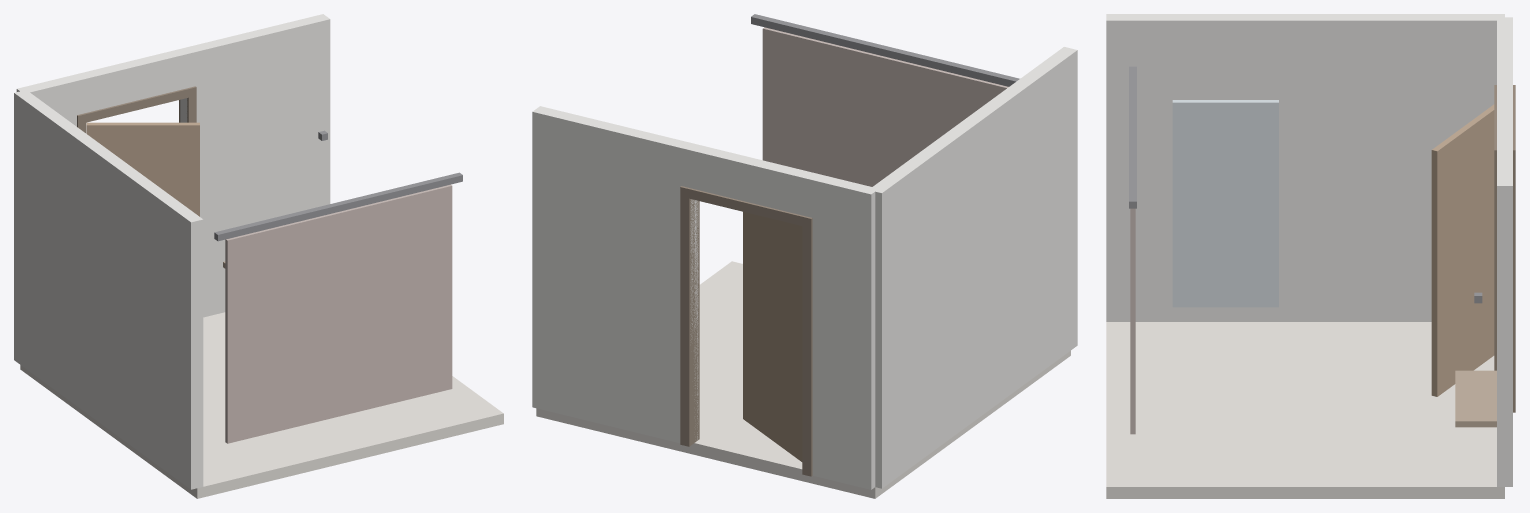
The model's file is scene-fitting.glb.
The picture shows the model from 3 angles, left to right: view 1: azimuth 30°, elevation 25°; view 2: azimuth 150°, elevation 25°; view 3: azimuth 270°, elevation 25°; orthographic projection. The views are drawn at different scales.
Visible parts, largest first — view 1: wall_left, curtain, wall_back_r, floor, door_back, wall_back_lintel, curtain_rail, wall_back_l, frame_back_top; view 2: wall_left, wall_back_r, curtain, wall_back_l, floor, door_back, wall_back_lintel, frame_back_r, curtain_rail, frame_back_l, frame_back_top; view 3: wall_left, floor, mirror, door_back, wall_back_r, bench, frame_back_r, curtain, curtain_rail, wall_back_lintel, wall_back_l, frame_back_top.
Part boxes in pixels (bbox=[...]): wall_left: bbox=[14, 91, 203, 489]; curtain: bbox=[225, 184, 452, 443]; wall_back_r: bbox=[180, 14, 330, 317]; floor: bbox=[20, 312, 503, 498]; door_back: bbox=[86, 122, 199, 216]; wall_back_lintel: bbox=[78, 49, 187, 112]; curtain_rail: bbox=[214, 172, 462, 241]; wall_back_l: bbox=[16, 74, 84, 126]; frame_back_top: bbox=[77, 86, 196, 124]; wall_left: bbox=[869, 47, 1077, 488]; wall_back_r: bbox=[532, 106, 698, 443]; curtain: bbox=[762, 27, 1008, 186]; wall_back_l: bbox=[803, 172, 878, 489]; floor: bbox=[536, 261, 1070, 498]; door_back: bbox=[743, 212, 802, 461]; wall_back_lintel: bbox=[690, 144, 810, 215]; frame_back_r: bbox=[680, 196, 699, 446]; curtain_rail: bbox=[751, 14, 1019, 86]; frame_back_l: bbox=[802, 226, 812, 476]; frame_back_top: bbox=[680, 186, 812, 228]; wall_left: bbox=[1106, 14, 1504, 321]; floor: bbox=[1106, 322, 1504, 498]; mirror: bbox=[1172, 100, 1278, 307]; door_back: bbox=[1431, 104, 1494, 396]; wall_back_r: bbox=[1497, 107, 1512, 486]; bench: bbox=[1455, 370, 1496, 427]; frame_back_r: bbox=[1494, 160, 1515, 412]; curtain: bbox=[1130, 208, 1135, 434]; curtain_rail: bbox=[1129, 66, 1136, 208]; wall_back_lintel: bbox=[1497, 51, 1512, 107]; wall_back_l: bbox=[1497, 17, 1512, 50]; frame_back_top: bbox=[1494, 85, 1515, 159].
Size of the model in its own units: 3.06 by 2.6 by 3.08.
